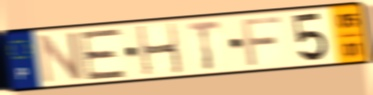5: (291, 11, 329, 63)
E: (78, 26, 128, 82)
F: (239, 15, 284, 68)
H: (134, 21, 185, 77)
N: (36, 30, 86, 87)
T: (185, 19, 224, 72)
